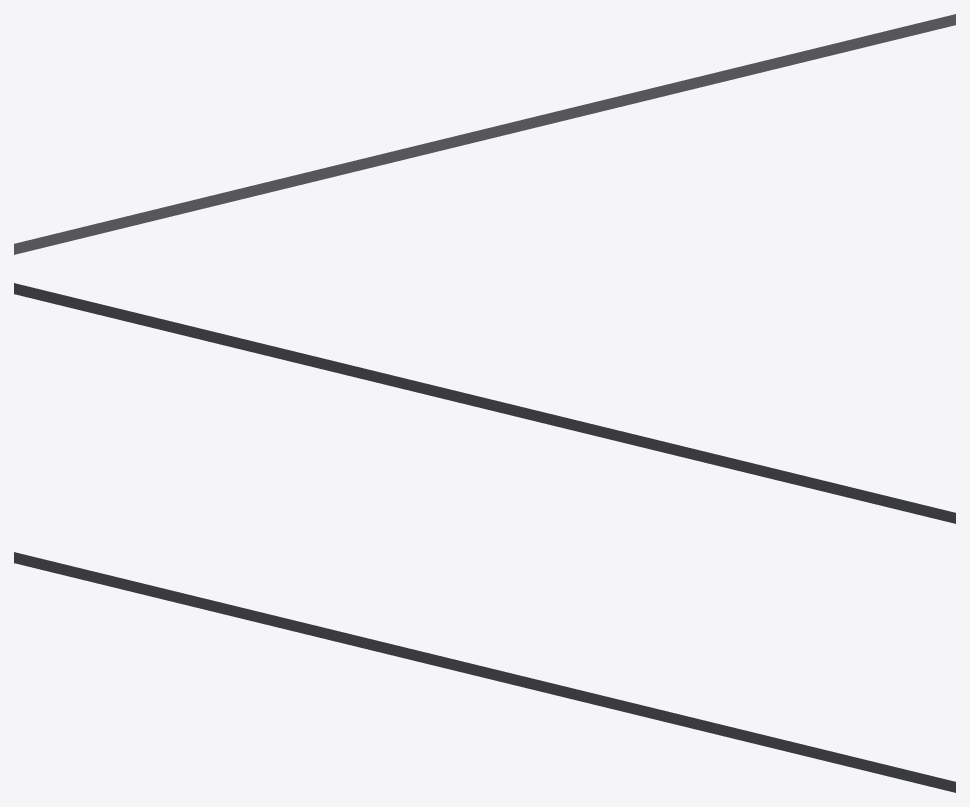
The model's file is kd_stage_135ded_4_96_exterior_piece_13.glb.
3 renders of one model, top to bottom at view 1: azimuth 30°, elevation 25°; view 2: azimuth 150°, elevation 25°; view 3: azimuth 330°, elevation 25°, orthographic.
Visible parts, largest first — view 1: kd_stage_135ded_4_96_exterior_piece_13; view 2: kd_stage_135ded_4_96_exterior_piece_13; view 3: kd_stage_135ded_4_96_exterior_piece_13.
Part boxes in pixels (box(x1,y1,x2,y2)): kd_stage_135ded_4_96_exterior_piece_13: box(14, 14, 955, 254); kd_stage_135ded_4_96_exterior_piece_13: box(14, 283, 955, 523); kd_stage_135ded_4_96_exterior_piece_13: box(14, 552, 955, 792).
Bounding box in the file's own units: 4.43 × 0.05 × 0.
1 material, 1 textured.
